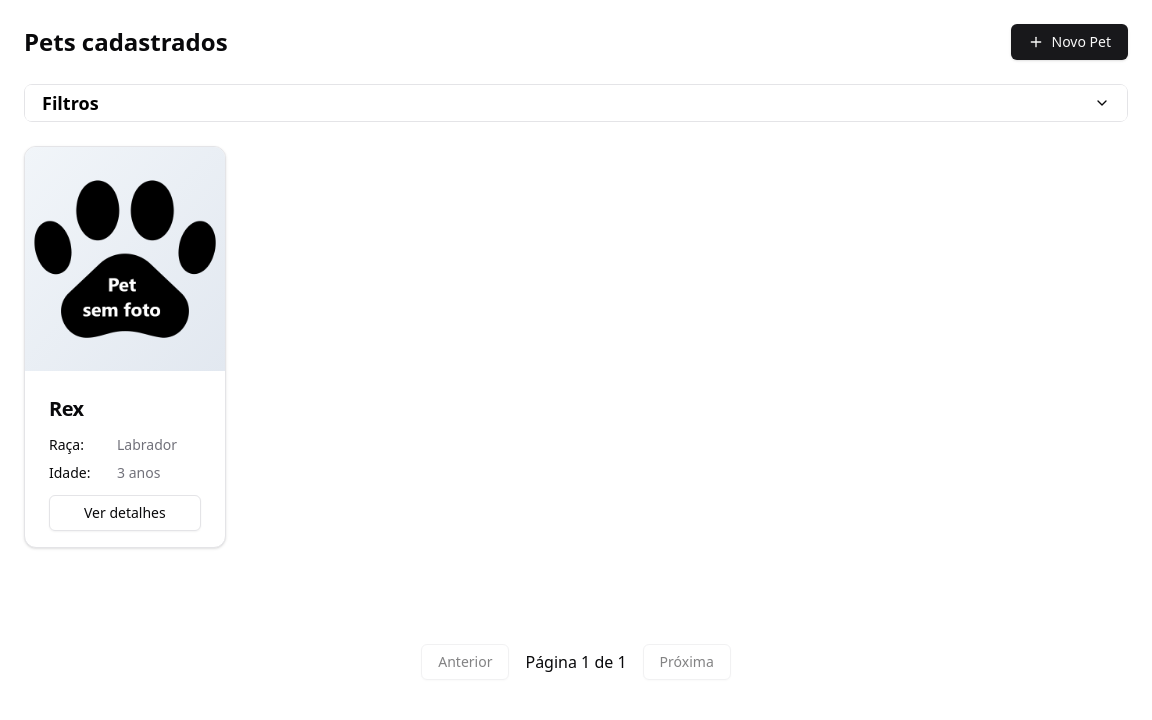
Test: PetsLista › botão Novo Pet abre o dialog de criação
Note: Clicar no botão Novo Pet
What coordinates should you click on to do the following:
click the button "Novo Pet"
I would click on:
 (1069, 42)
Its box is [1010, 24, 1128, 60].
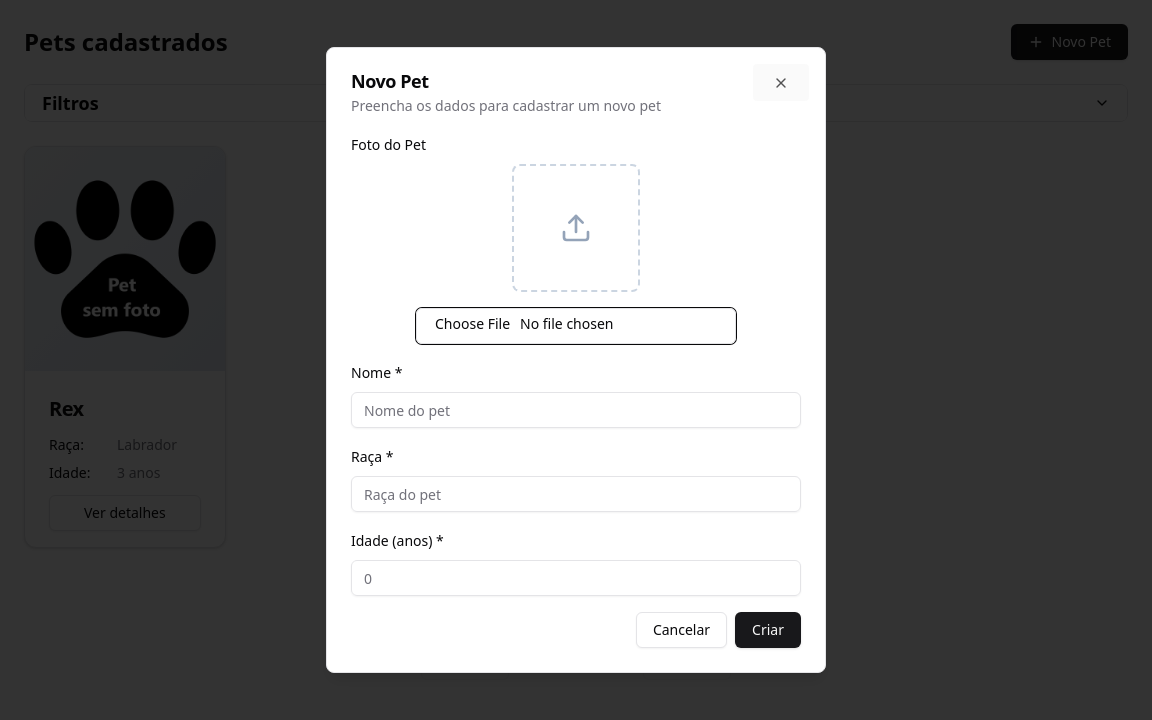
Expected: the dialog is shown, [326, 47, 826, 673]
